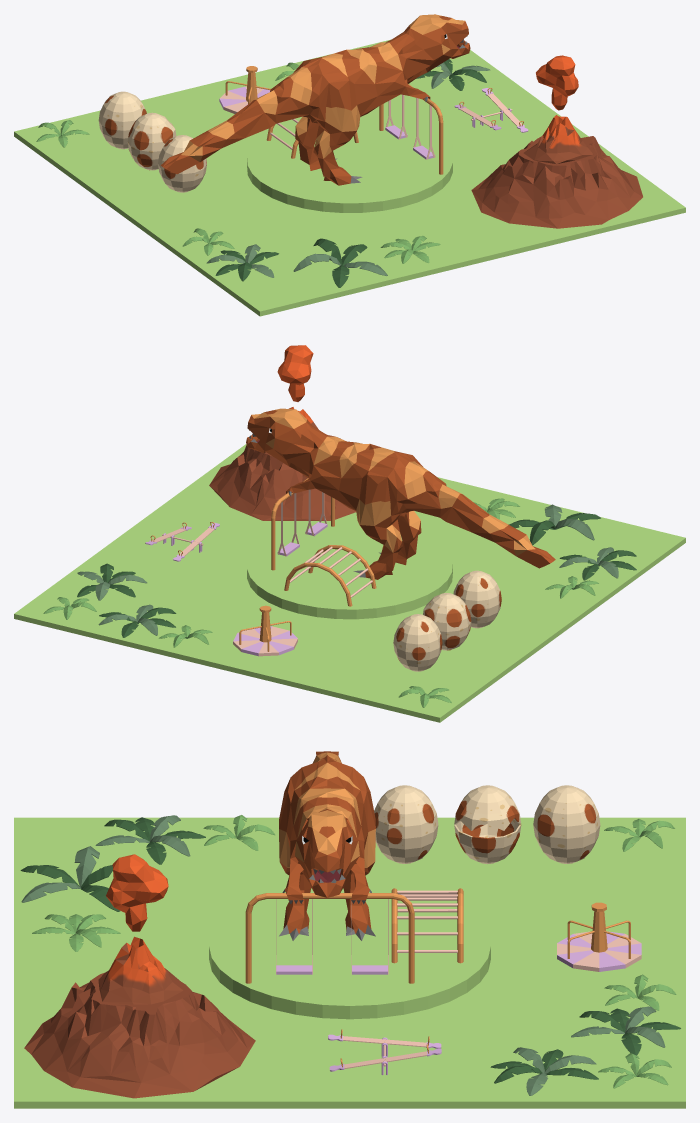
Rendered from D4_Volcano_and_dinosour.fbx.
3 renders of one model, top to bottom at view 1: azimuth 30°, elevation 25°; view 2: azimuth 150°, elevation 25°; view 3: azimuth 270°, elevation 25°, orthographic. The views are drawn at different scales.
Parts seen in each view (by area): view 1: Cube.083, ANIMAL_TREX, Cylinder.081, Landscape.001, Landscape, Sphere.017, Sphere.016, Cylinder.001, Sphere.015, Mball.004, Cylinder.002, D1_PLAYGROUND_2.001 (+7 smaller); view 2: Cube.083, ANIMAL_TREX, Cylinder.081, Landscape.001, Sphere.016, Sphere.015, Sphere.017, D1_PLAYGROUND_2.001, D1_PLAYGROUND_1, Mball.004, Cylinder.001, Cylinder.007 (+4 smaller); view 3: Cube.083, Cylinder.081, Landscape.001, ANIMAL_TREX, Sphere.016, Sphere.017, Sphere.015, Landscape, D1_PLAYGROUND_2.001, Mball.004, D1_PLAYGROUND_1, Cylinder.001 (+11 smaller).
Boxes of the visible parts, box(x1,y1,x2,y2) form: Cube.083: box(14, 39, 685, 316); ANIMAL_TREX: box(161, 14, 470, 185); Cylinder.081: box(247, 116, 452, 212); Landscape.001: box(471, 136, 642, 228); Landscape: box(523, 115, 593, 163); Sphere.017: box(127, 112, 176, 170); Sphere.016: box(98, 91, 146, 149); Cylinder.001: box(293, 238, 387, 287); Sphere.015: box(158, 135, 206, 192); Mball.004: box(536, 55, 578, 110); Cylinder.002: box(206, 244, 278, 281); D1_PLAYGROUND_2.001: box(219, 66, 270, 113); Cube.083: box(14, 444, 685, 722); ANIMAL_TREX: box(246, 408, 555, 579); Cylinder.081: box(247, 522, 452, 619); Landscape.001: box(209, 435, 356, 520); Sphere.016: box(393, 614, 442, 671); Sphere.015: box(453, 570, 501, 628); Sphere.017: box(423, 593, 471, 650); D1_PLAYGROUND_2.001: box(233, 605, 297, 656); D1_PLAYGROUND_1: box(284, 545, 376, 606); Mball.004: box(277, 345, 313, 401); Cylinder.001: box(509, 504, 600, 545); Cylinder.007: box(77, 563, 147, 600); Cube.083: box(14, 817, 685, 1108); Cylinder.081: box(209, 887, 490, 1019); Landscape.001: box(24, 968, 255, 1098); ANIMAL_TREX: box(279, 751, 375, 940); Sphere.016: box(533, 785, 600, 863); Sphere.017: box(454, 785, 521, 863); Sphere.015: box(374, 785, 438, 863); Landscape: box(98, 936, 183, 1004); D1_PLAYGROUND_2.001: box(557, 902, 641, 971); Mball.004: box(106, 854, 168, 931); D1_PLAYGROUND_1: box(391, 888, 463, 963); Cylinder.001: box(20, 846, 120, 911).
Size of the model in its own units: 2000 by 650 by 2000.
Materials: 12 (3 with a texture image).
